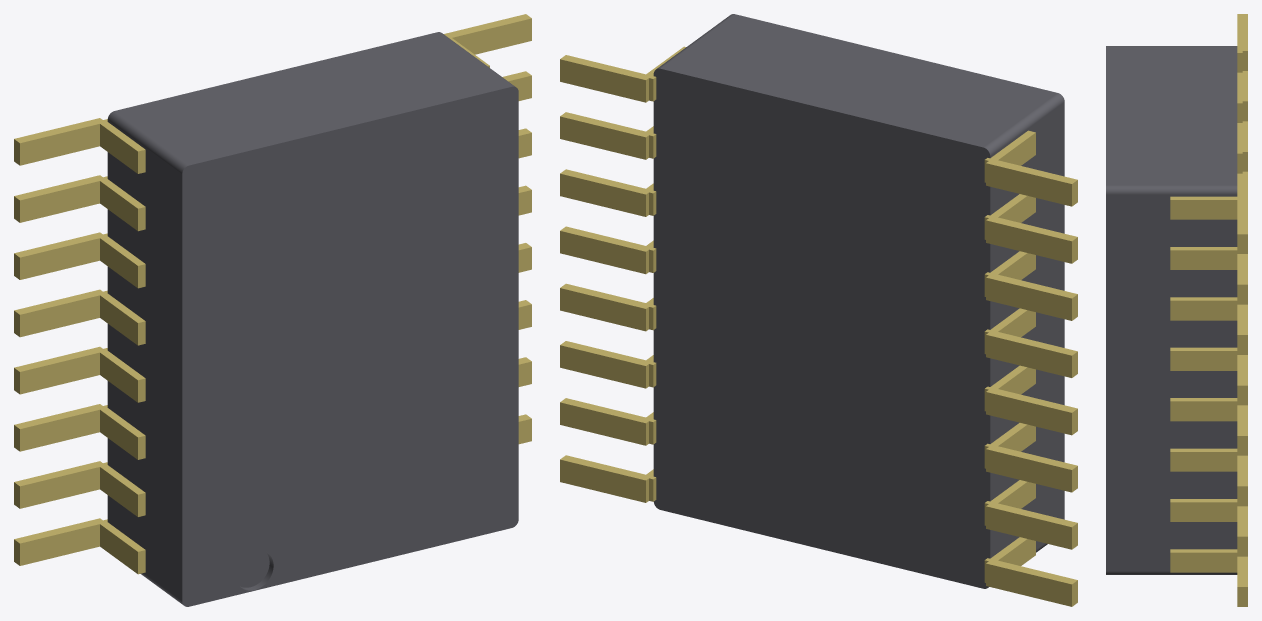
The model's file is ttp224.glb.
The picture shows the model from 3 angles, left to right: view 1: azimuth 30°, elevation 25°; view 2: azimuth 150°, elevation 25°; view 3: azimuth 270°, elevation 25°; orthographic projection. The views are drawn at different scales.
Parts seen in each view (by area): view 1: extra, pins; view 2: extra, pins; view 3: extra, pins.
Boxes of the visible parts, x1,y1,x2,y2 form: extra: (107, 32, 518, 606); pins: (14, 14, 531, 574); extra: (653, 14, 1064, 588); pins: (560, 46, 1077, 606); extra: (1106, 46, 1237, 574); pins: (1170, 14, 1247, 606).
Size of the model in its own units: 5.95 by 4.9 by 1.62.
